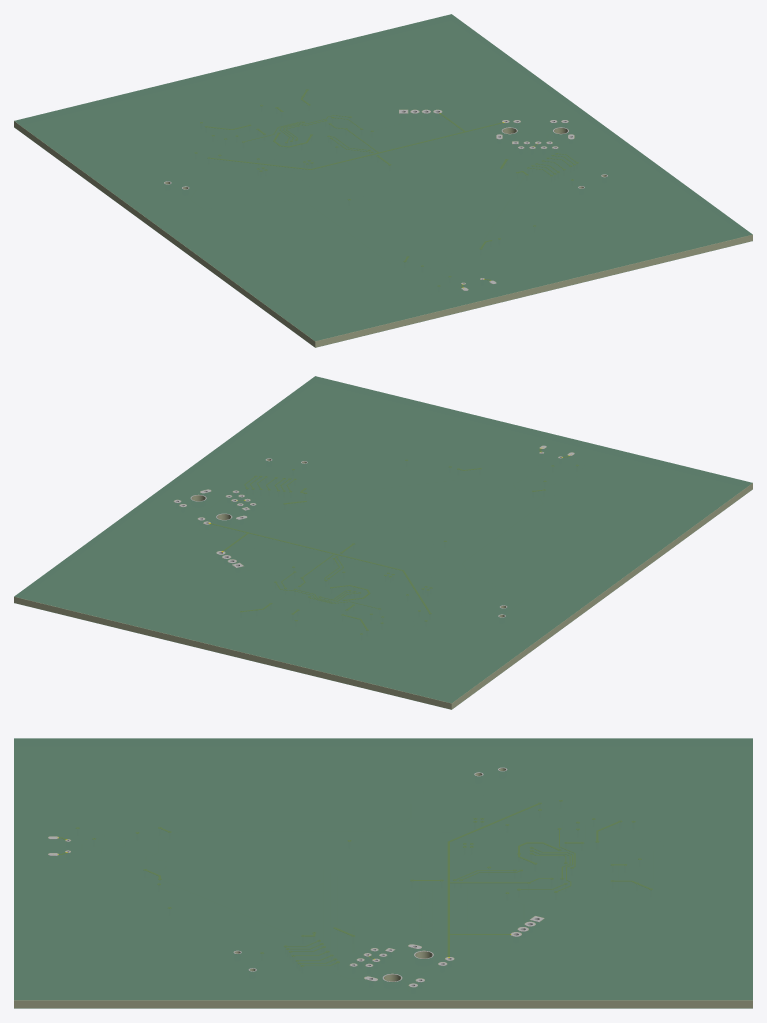
The model's file is jd-hitbsecconf2018-beijing-badge.glb.
3 views of the same model, one above another, from view 1: azimuth 30°, elevation 25°; view 2: azimuth 150°, elevation 25°; view 3: azimuth 270°, elevation 25° (orthographic). The views are drawn at different scales.
Visible parts, largest first — view 1: =>[0:1:1:8], =>[0:1:1:6], =>[0:1:1:2]; view 2: =>[0:1:1:8], =>[0:1:1:6], =>[0:1:1:2]; view 3: =>[0:1:1:8], =>[0:1:1:6], =>[0:1:1:2].
Part boxes in pixels (left/top/right/bottom): =>[0:1:1:8]: left=14, top=15, right=752, bottom=347; =>[0:1:1:6]: left=14, top=14, right=752, bottom=347; =>[0:1:1:2]: left=164, top=90, right=607, bottom=290; =>[0:1:1:8]: left=14, top=377, right=752, bottom=709; =>[0:1:1:6]: left=14, top=376, right=752, bottom=709; =>[0:1:1:2]: left=174, top=445, right=576, bottom=629; =>[0:1:1:8]: left=14, top=739, right=752, bottom=1008; =>[0:1:1:6]: left=14, top=738, right=752, bottom=1008; =>[0:1:1:2]: left=48, top=767, right=652, bottom=987.
Size of the model in its own units: 0.1127 by 0.00163 by 0.1343.
Materials: 4 (4 with a texture image).
